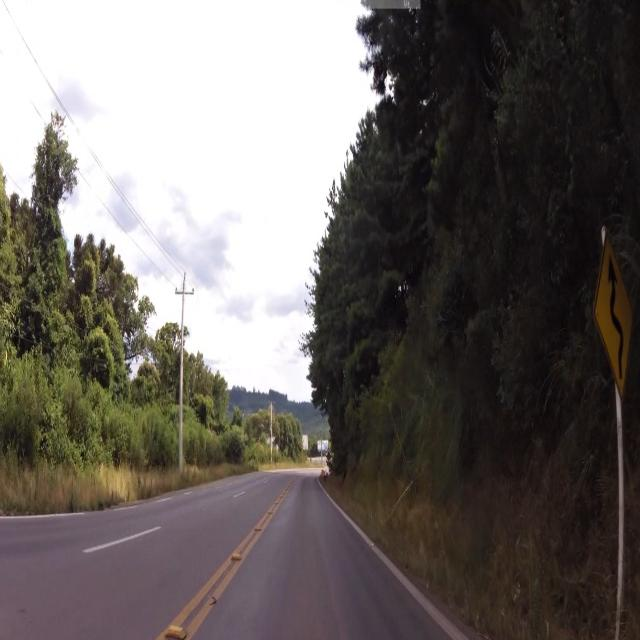A-3b: (588, 220, 640, 400)
